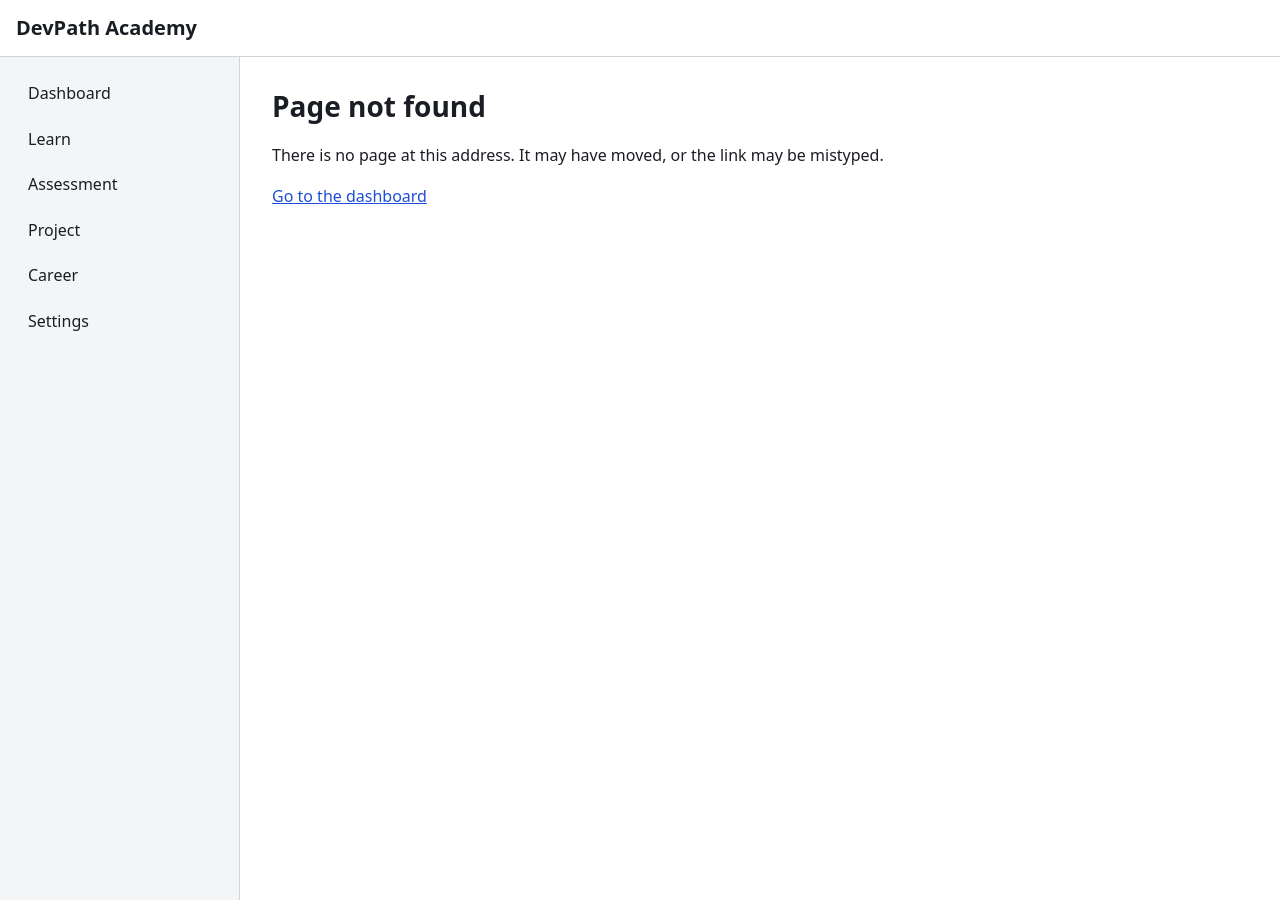
Scenario: routing › shows a not-found page for unknown URLs, with a way back
This screenshot has width=1280, height=900.
Check: the heading "Page not found" is shown, box [272, 87, 486, 125]
What coordinates should you click on to do the following:
click the link "Go to the dashboard"
I would click on:
 (350, 196)
Its box is [272, 185, 427, 207].
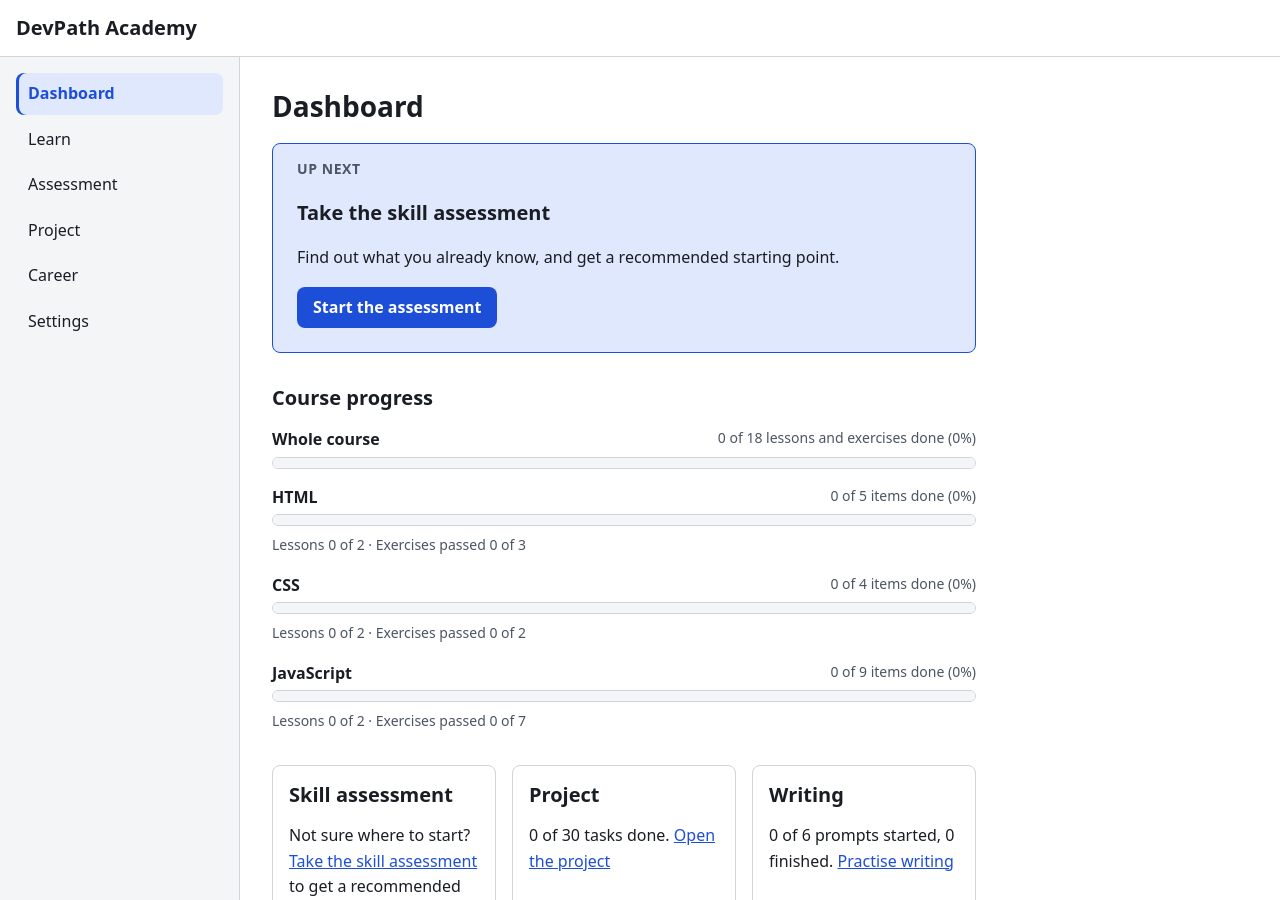
Check: the heading "Dashboard" is shown, box [272, 87, 424, 125]
